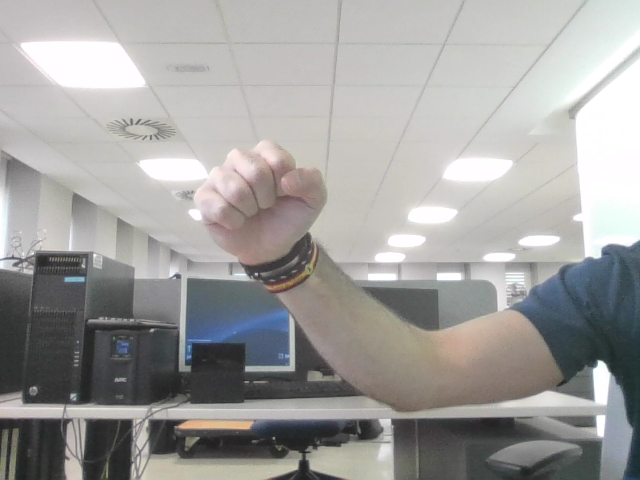Puño: (205, 150, 310, 226)
